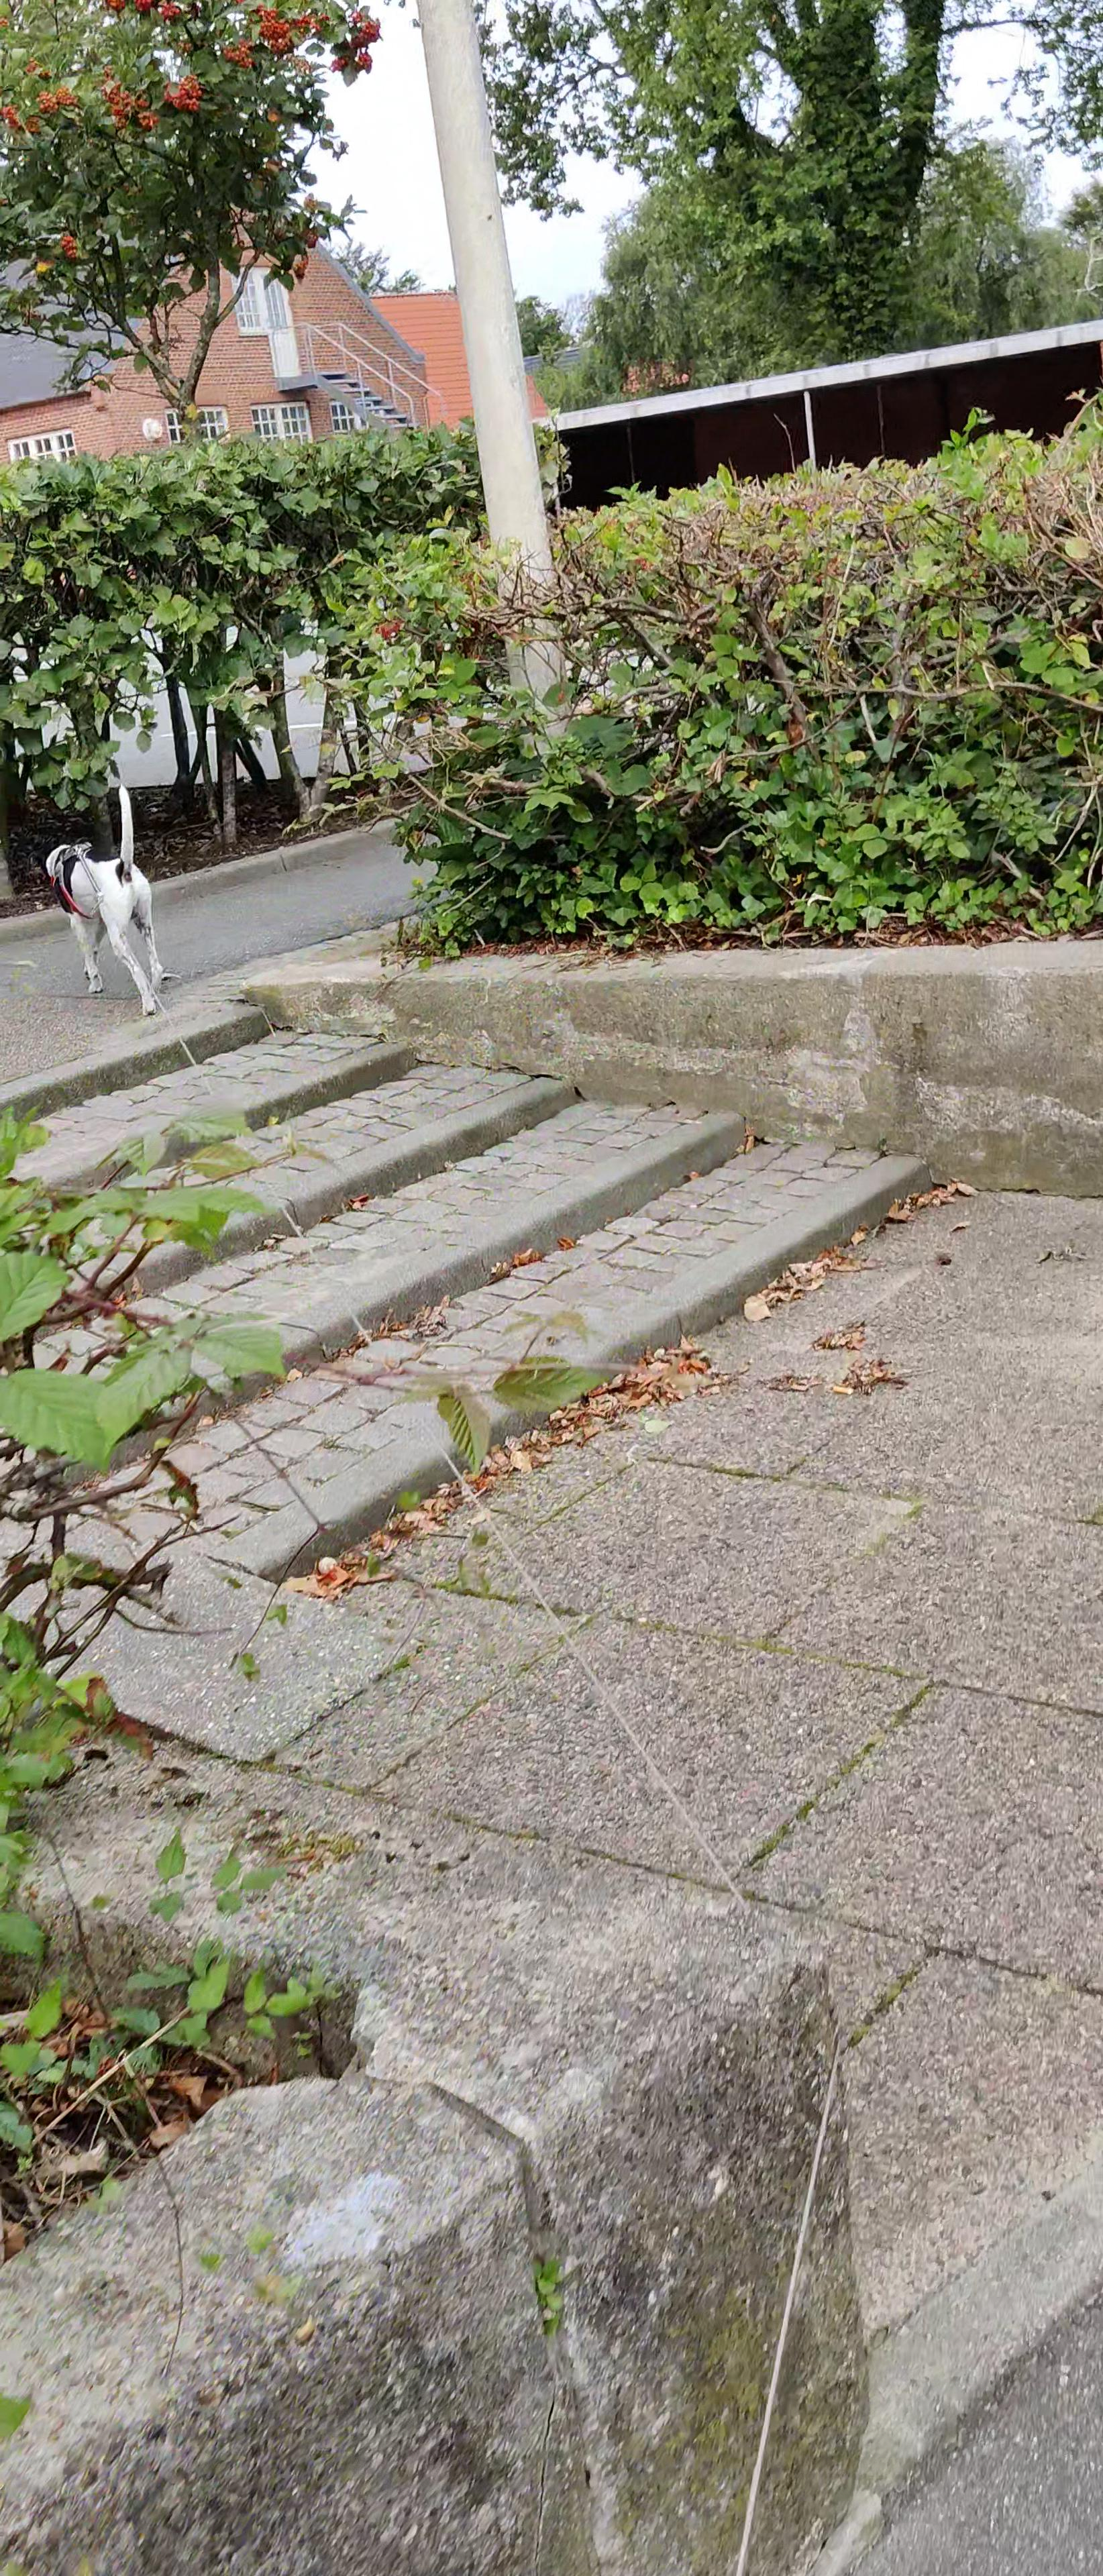Dog: (23, 775, 174, 1020)
